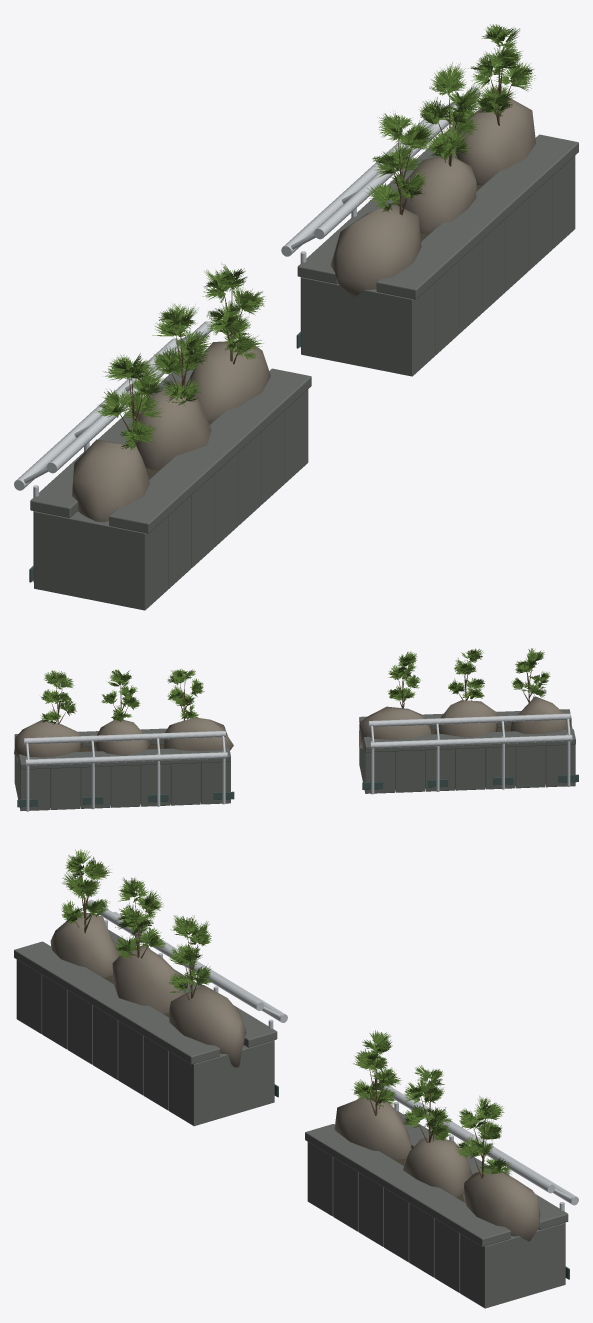
Rendered from hachiko_surround_v002.glb.
3 renders of one model, top to bottom at view 1: azimuth 30°, elevation 25°; view 2: azimuth 150°, elevation 25°; view 3: azimuth 270°, elevation 25°, orthographic. The views are drawn at different scales.
Visible parts, largest first — view 1: street_surround_stone, street_surround_rock, street_surround_needle, street_surround_silver, street_surround_branch; view 2: street_surround_stone, street_surround_rock, street_surround_silver, street_surround_needle, street_surround_panel, street_surround_branch; view 3: street_surround_stone, street_surround_rock, street_surround_needle, street_surround_silver, street_surround_branch.
Boxes of the visible parts, x1=… form: street_surround_stone: x1=30, y1=125, x2=578, y2=610; street_surround_rock: x1=72, y1=97, x2=535, y2=522; street_surround_needle: x1=95, y1=24, x2=535, y2=450; street_surround_silver: x1=14, y1=87, x2=480, y2=582; street_surround_branch: x1=120, y1=47, x2=512, y2=441; street_surround_stone: x1=14, y1=709, x2=575, y2=810; street_surround_rock: x1=14, y1=696, x2=571, y2=761; street_surround_silver: x1=24, y1=713, x2=572, y2=811; street_surround_needle: x1=40, y1=648, x2=550, y2=724; street_surround_panel: x1=17, y1=774, x2=578, y2=807; street_surround_branch: x1=51, y1=662, x2=537, y2=723; street_surround_stone: x1=14, y1=929, x2=568, y2=1308; street_surround_rock: x1=50, y1=912, x2=540, y2=1241; street_surround_needle: x1=61, y1=849, x2=512, y2=1176; street_surround_silver: x1=87, y1=899, x2=578, y2=1211; street_surround_branch: x1=75, y1=875, x2=493, y2=1178.
Bounding box in the file's own units: 5.57 × 1.67 × 4.29.
Materials: 7 (1 with a texture image).
